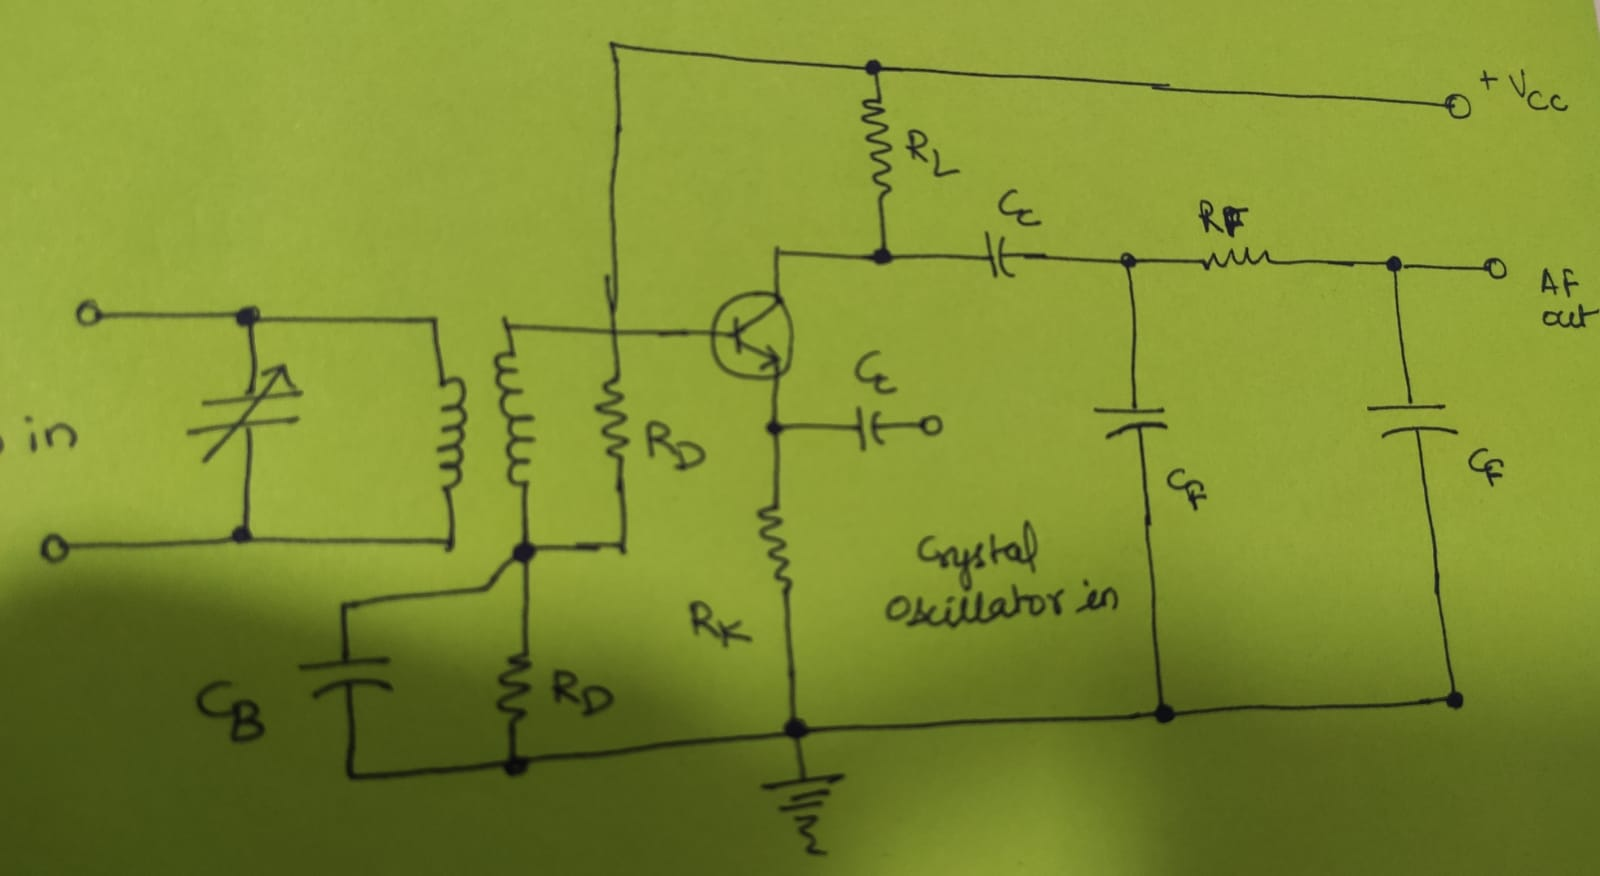capacitor.unpolarized: (193, 362, 296, 462), (301, 653, 391, 700), (1363, 395, 1457, 439), (1093, 400, 1168, 439), (979, 233, 1015, 279), (854, 405, 885, 450)
gnd: (760, 768, 845, 856)
junction: (500, 745, 537, 782), (226, 301, 266, 334), (778, 711, 814, 744), (506, 536, 543, 566), (1148, 697, 1181, 727), (226, 521, 258, 550), (1379, 254, 1413, 279), (866, 239, 897, 266), (858, 56, 892, 80), (1114, 251, 1140, 278), (340, 764, 368, 788), (762, 415, 788, 440), (335, 596, 359, 620), (438, 528, 461, 552), (1444, 689, 1466, 713), (612, 538, 635, 558), (423, 311, 445, 330), (474, 578, 495, 599), (769, 242, 786, 262), (604, 324, 622, 341), (500, 319, 519, 336), (605, 37, 622, 52)
resistor: (858, 86, 895, 200), (594, 362, 630, 469), (756, 498, 796, 588), (495, 646, 534, 723), (1197, 242, 1275, 270)
terminal: (40, 531, 75, 564), (73, 297, 108, 329), (910, 409, 946, 440), (1474, 254, 1508, 285), (1440, 90, 1474, 121)
text: (883, 518, 1121, 630), (193, 676, 272, 747), (643, 418, 711, 473), (1540, 266, 1599, 329), (552, 666, 618, 718), (687, 598, 754, 649), (1505, 67, 1571, 112), (905, 127, 962, 179), (20, 412, 81, 454), (1196, 199, 1251, 239), (853, 348, 900, 395), (1165, 466, 1210, 512), (996, 188, 1043, 228), (1467, 447, 1507, 489)
transformer: (433, 346, 538, 497)
transistor: (707, 286, 796, 382)
